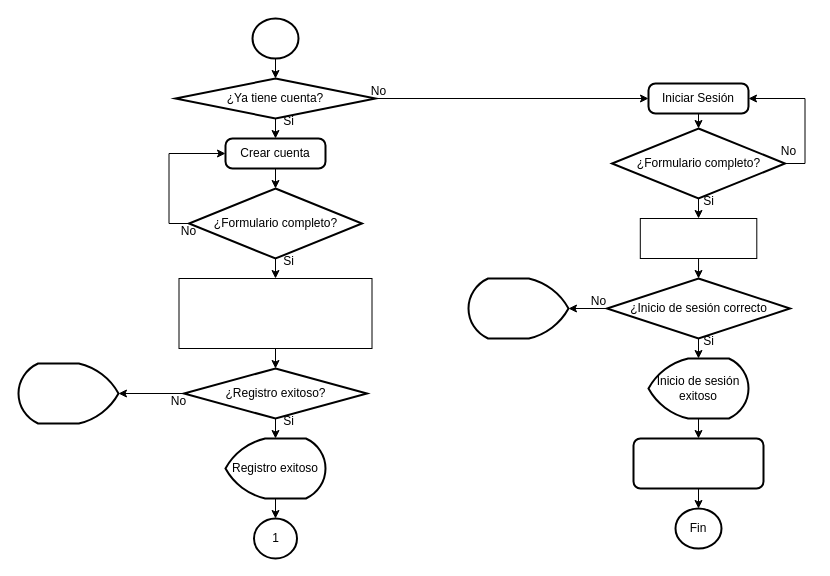
Some shapes in this 830 by 576 pixel diagram are drawn without their labels. The box of each missing label's shape, as (x1, y1, x2, y2) in pixels:
Dirige a página principal del usuario: (632, 437, 764, 489)
Error: (467, 277, 569, 339)
Inicio: (251, 17, 299, 59)
Inicio de sesión: (639, 218, 757, 258)
Registra usuario y envia correo de confirmación con el código único: (178, 278, 372, 348)
Registro no exitoso: (17, 362, 119, 424)
